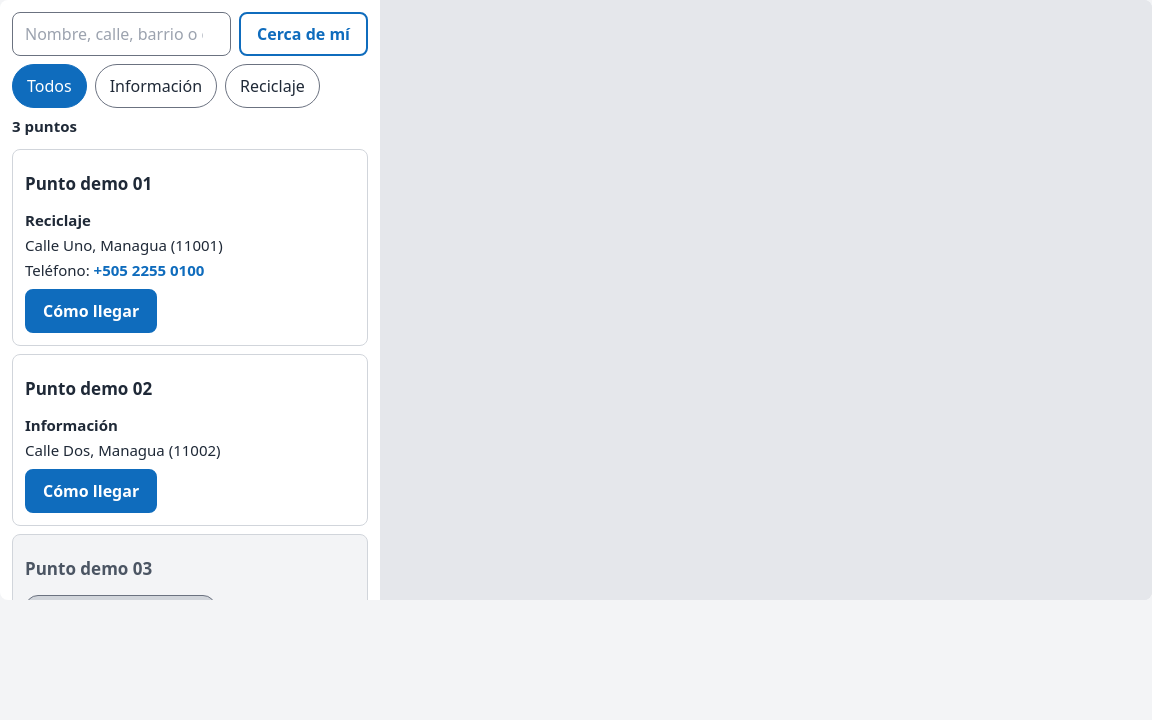
it: BuscadorPuntos (sin mapa) › si la geolocalización se deniega, mensaje amable y el listado sigue funcionando
Expected: the button "Punto demo 01" is shown, [25,162,355,206]
What coordinates should you click on to do the following:
click the button "Cerca de mí"
I would click on:
 (304, 34)
Its box is [239,12,368,56].
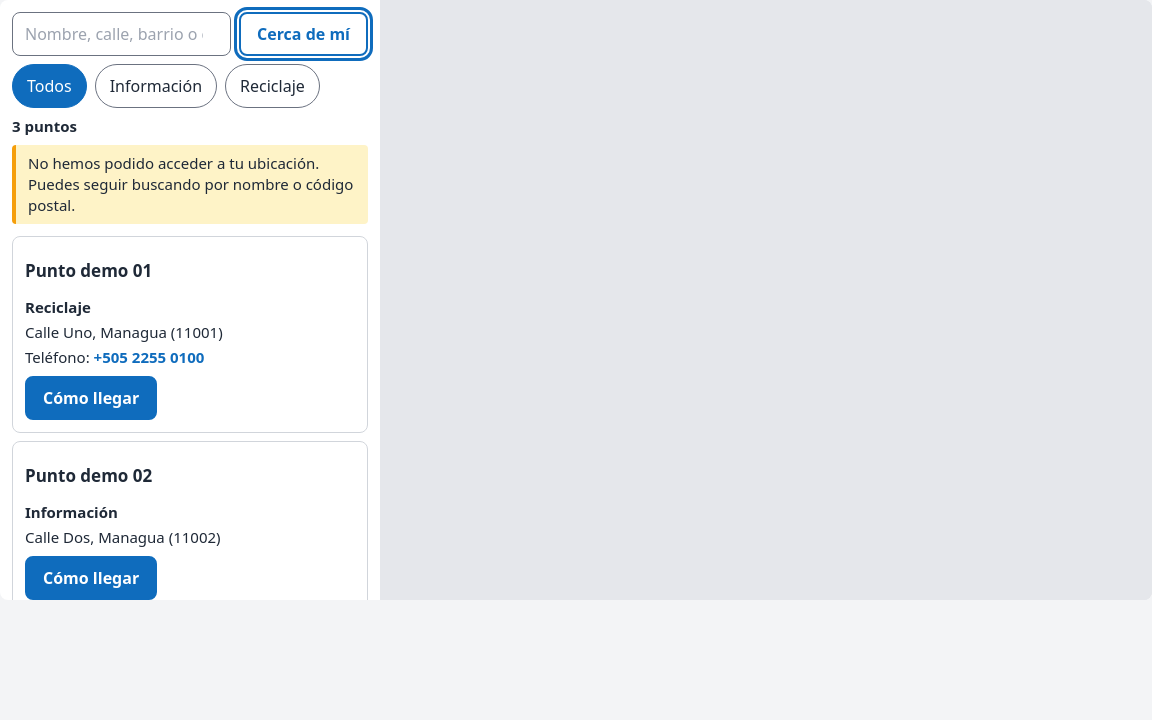
Expected: the text "No hemos podido acceder a tu ubicación" is shown, [28,153,353,215]
